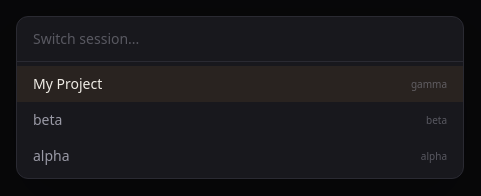
Scenario: QuickSwitcher › filters sessions by typing
In the field with placeholder "Switch session...": [240, 40] box 17,17 -> 463,62, type "alpha"
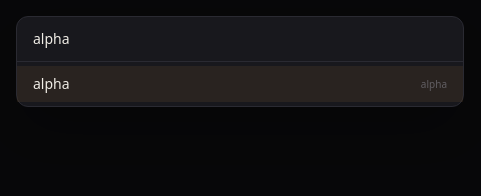
Result: the button "beta" is gone
